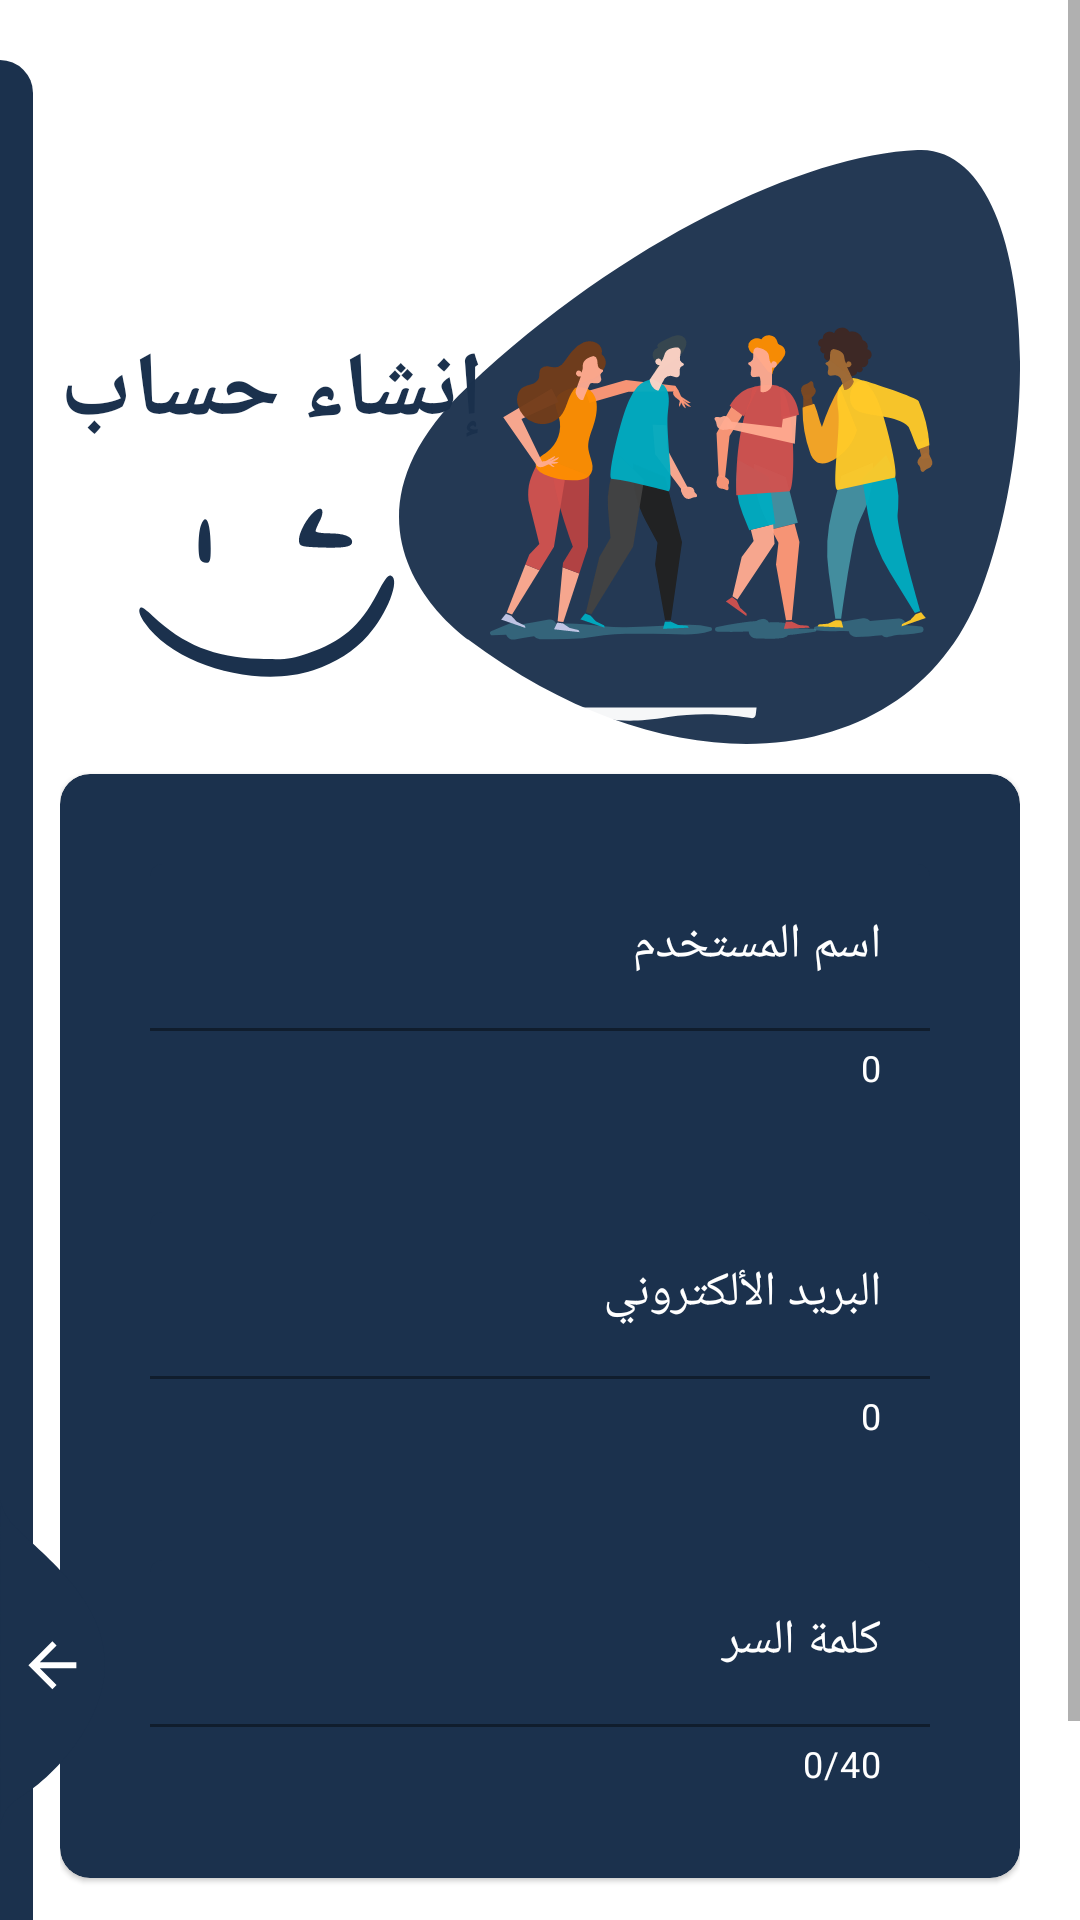

Icon bounding boxes for this 1080 x 1920 phone screenshot, format bbox(x1, y1, x2, y2):
resigter smile: bbox(139, 508, 395, 677)
